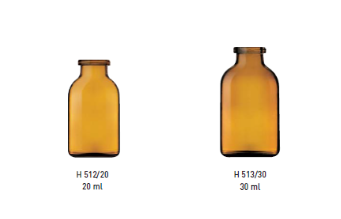glass_bottleww: (200, 23, 300, 209), (55, 32, 143, 202)
